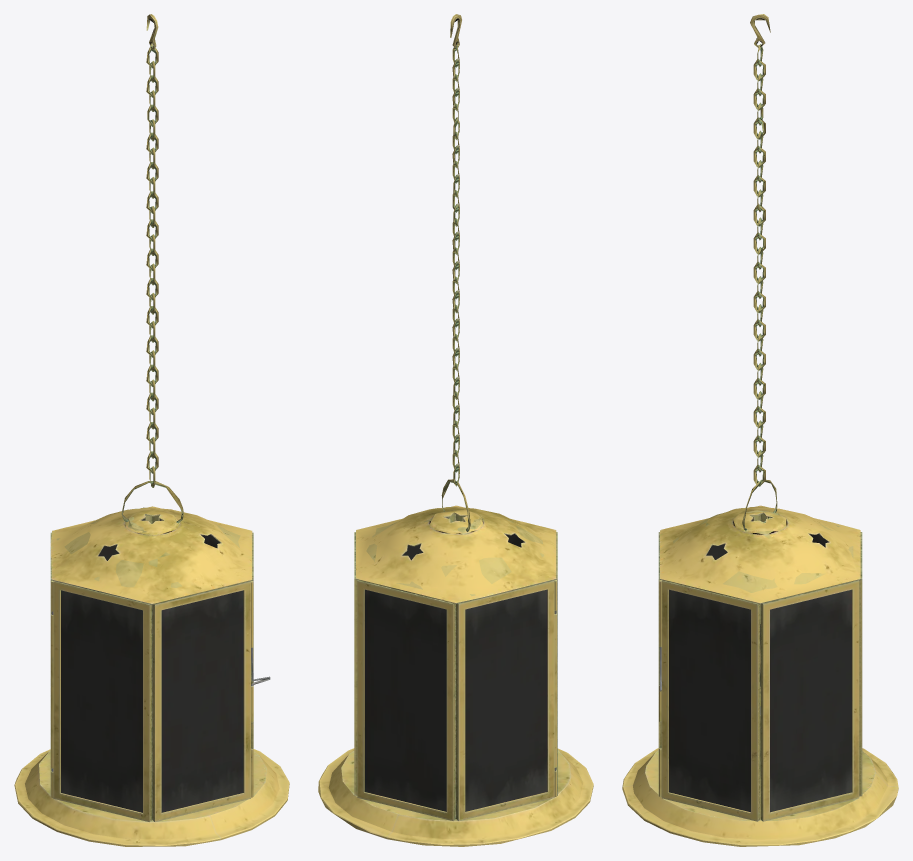
File: assets__ph__brass_diya_lantern.glb
The picture shows the model from 3 angles, left to right: view 1: azimuth 30°, elevation 25°; view 2: azimuth 150°, elevation 25°; view 3: azimuth 270°, elevation 25°; orthographic projection.
Visible parts, largest first — view 1: brass_diya_lantern, brass_diya_lantern_connection; view 2: brass_diya_lantern, brass_diya_lantern_connection; view 3: brass_diya_lantern, brass_diya_lantern_connection.
Boxes of the visible parts, x1,y1,x2,y2 form: brass_diya_lantern: [14, 506, 289, 846]; brass_diya_lantern_connection: [121, 14, 183, 522]; brass_diya_lantern: [318, 505, 593, 846]; brass_diya_lantern_connection: [441, 14, 470, 531]; brass_diya_lantern: [622, 505, 898, 846]; brass_diya_lantern_connection: [742, 14, 777, 530].
Bounding box in the file's own units: 0.1224 × 0.3807 × 0.123.
Materials: 3 (3 with a texture image).
